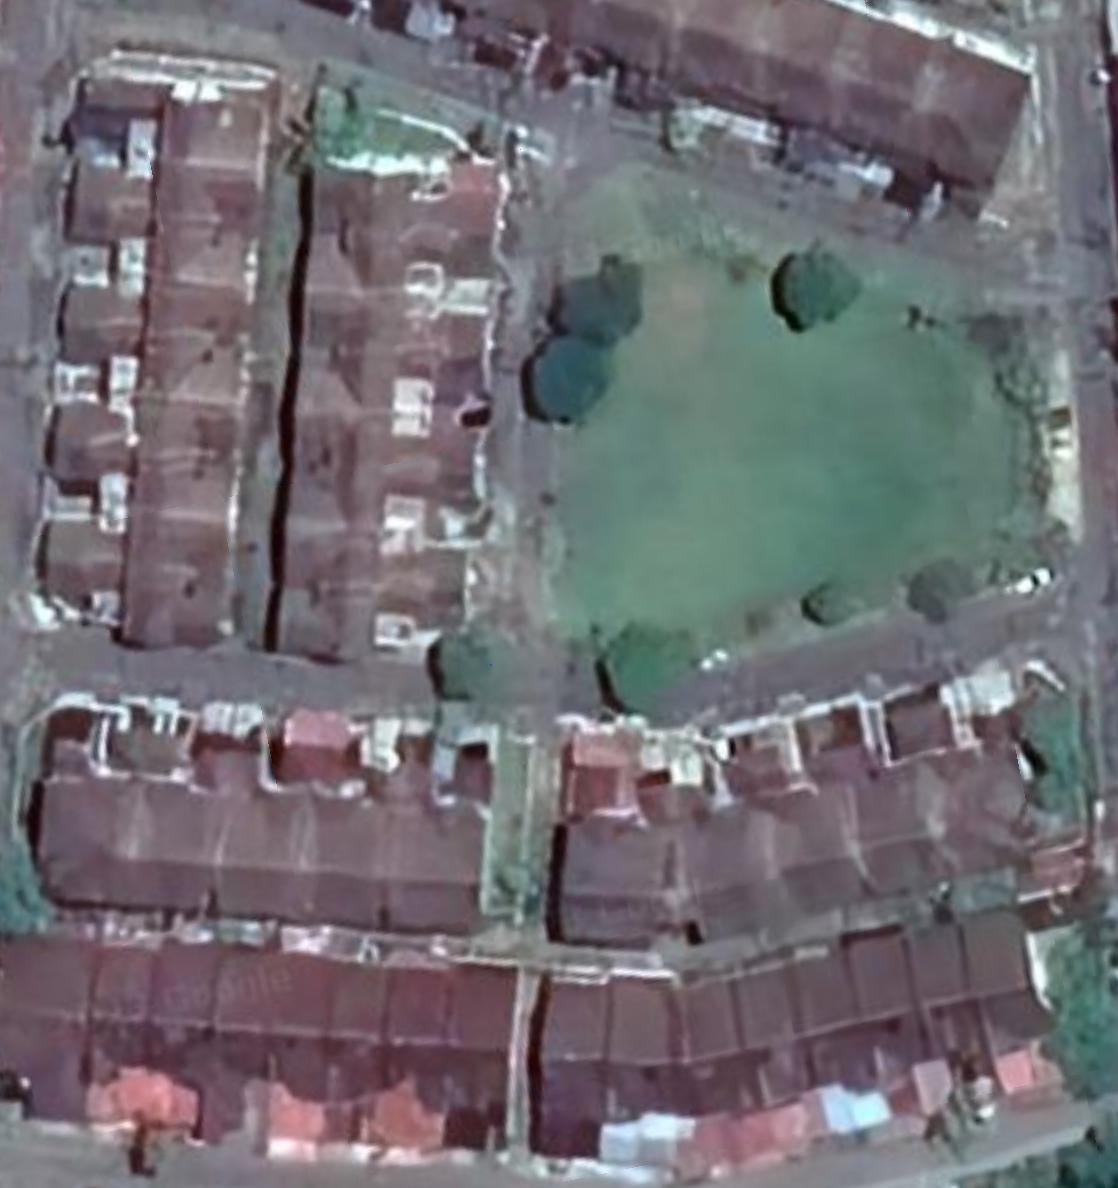building: (870, 675, 1055, 884), (788, 696, 973, 897), (874, 22, 1049, 223), (715, 733, 899, 920), (644, 763, 805, 955), (546, 724, 675, 951), (48, 67, 281, 180), (372, 745, 494, 939), (188, 734, 304, 925), (304, 146, 512, 246), (56, 207, 266, 301), (0, 919, 86, 1140), (46, 274, 266, 360), (816, 0, 929, 167), (23, 727, 123, 911), (62, 160, 277, 245), (266, 583, 474, 670), (38, 567, 237, 656), (34, 388, 254, 466), (45, 333, 261, 413), (794, 931, 891, 1106), (36, 507, 241, 588), (531, 963, 612, 1165), (737, 0, 851, 139), (976, 891, 1070, 1058), (37, 455, 245, 529), (291, 233, 509, 303), (854, 920, 944, 1088), (281, 476, 495, 544), (918, 905, 1009, 1067), (117, 759, 209, 917), (684, 952, 766, 1120), (275, 422, 500, 483), (288, 299, 498, 364), (438, 952, 521, 1114), (748, 949, 829, 1108), (294, 784, 378, 933), (274, 542, 480, 602), (276, 368, 489, 423), (608, 963, 683, 1119), (261, 935, 325, 1113), (143, 922, 213, 1070), (319, 949, 380, 1116), (81, 924, 144, 1074), (377, 957, 434, 1119), (202, 928, 260, 1085)
